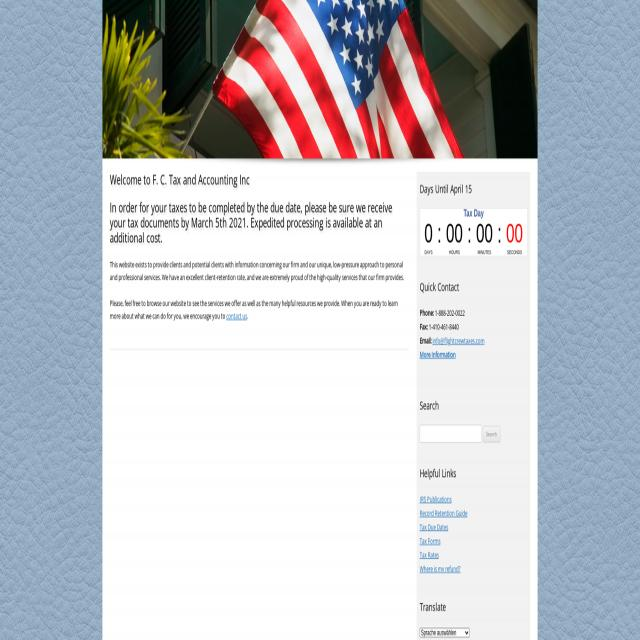button: (483, 428, 501, 443)
field: (420, 426, 482, 444), (420, 628, 470, 637)
